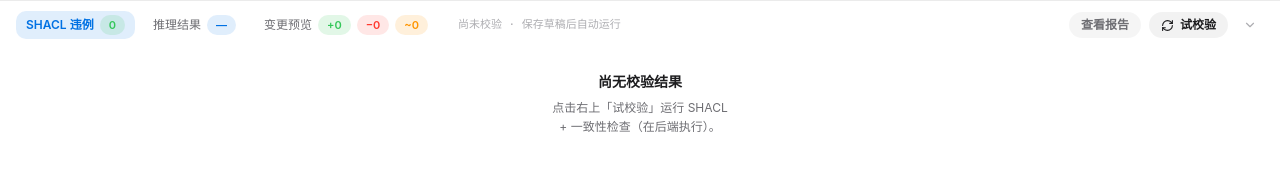
V4.3 ChangesetPreview 真实化（41 篇 §2） › ⑦ 空 pending：空态文案替代示例假行
Click the button "变更预览 +0 −0 ~0" at (346, 25), box [254,11,438,39]
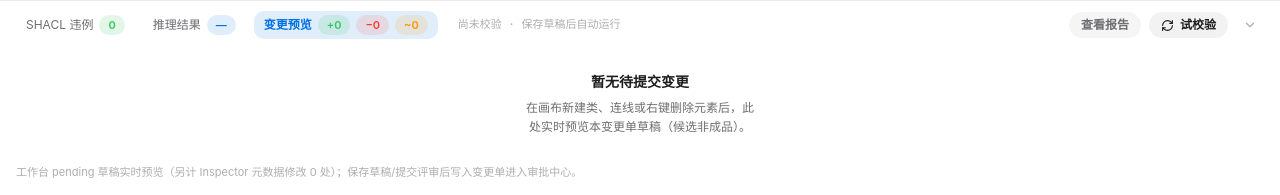
Check: the element with test id "preview-empty" shows "暂无待提交变更", box [591,73,689,90]
